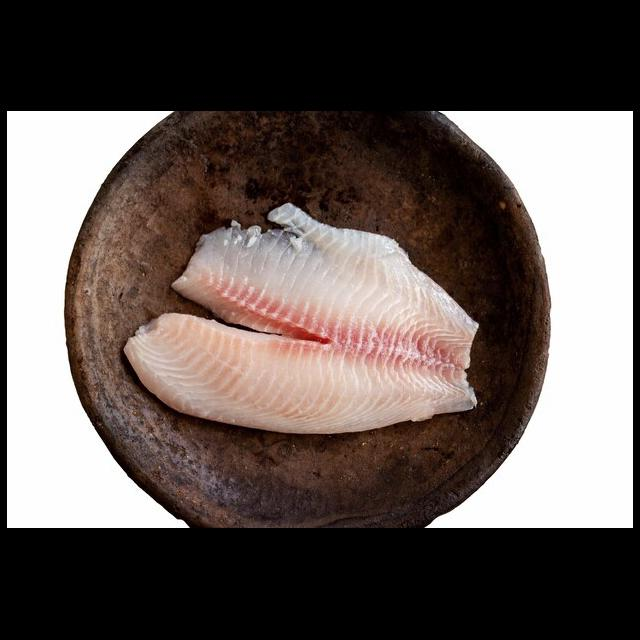fish: (112, 194, 487, 437)
